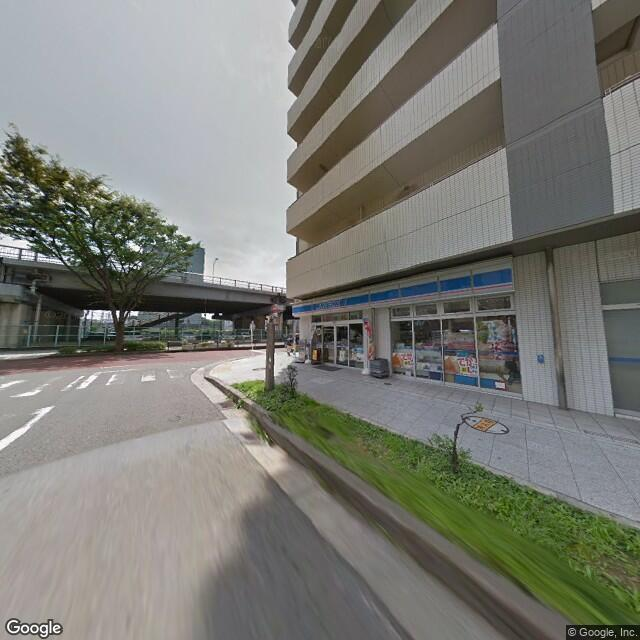lawson: (289, 255, 521, 320)
